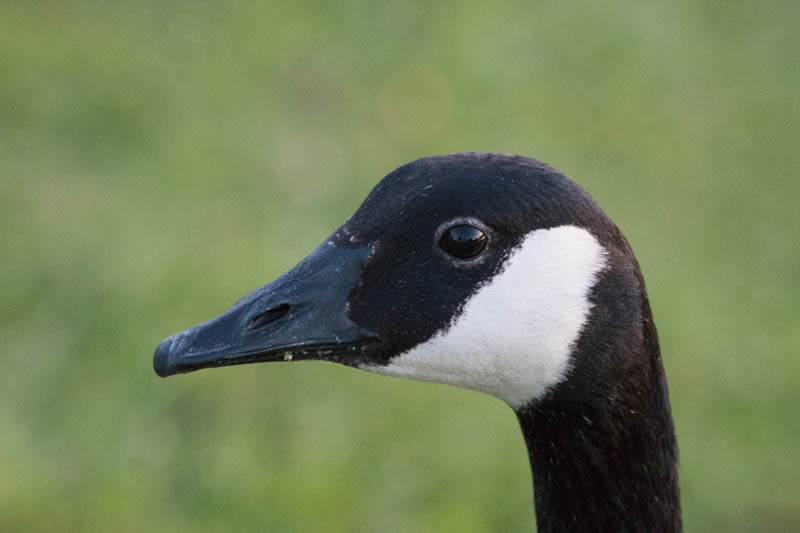goose-head: (152, 152, 665, 412)
